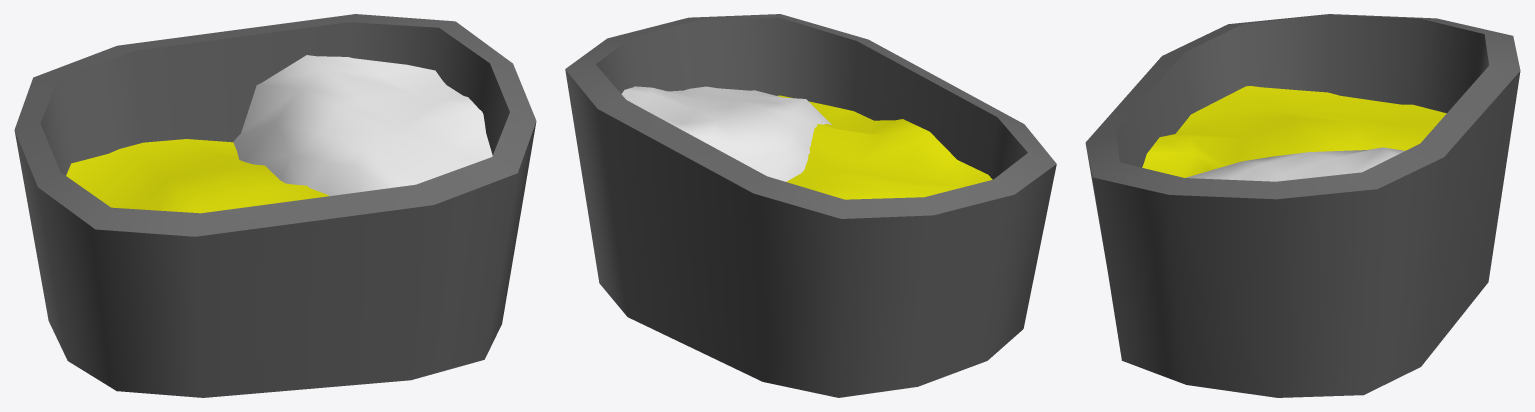
The model's file is Laundry_Basket.fbx.
3 renders of one model, left to right at view 1: azimuth 30°, elevation 25°; view 2: azimuth 150°, elevation 25°; view 3: azimuth 270°, elevation 25°, orthographic. The views are drawn at different scales.
Visible parts, largest first — view 1: Laundry_Basket; view 2: Laundry_Basket; view 3: Laundry_Basket.
Part boxes in pixels (bbox=[...]): Laundry_Basket: bbox=[14, 14, 536, 397]; Laundry_Basket: bbox=[565, 14, 1056, 397]; Laundry_Basket: bbox=[1085, 14, 1520, 397].
Size of the model in its own units: 106 by 51 by 89.38.
